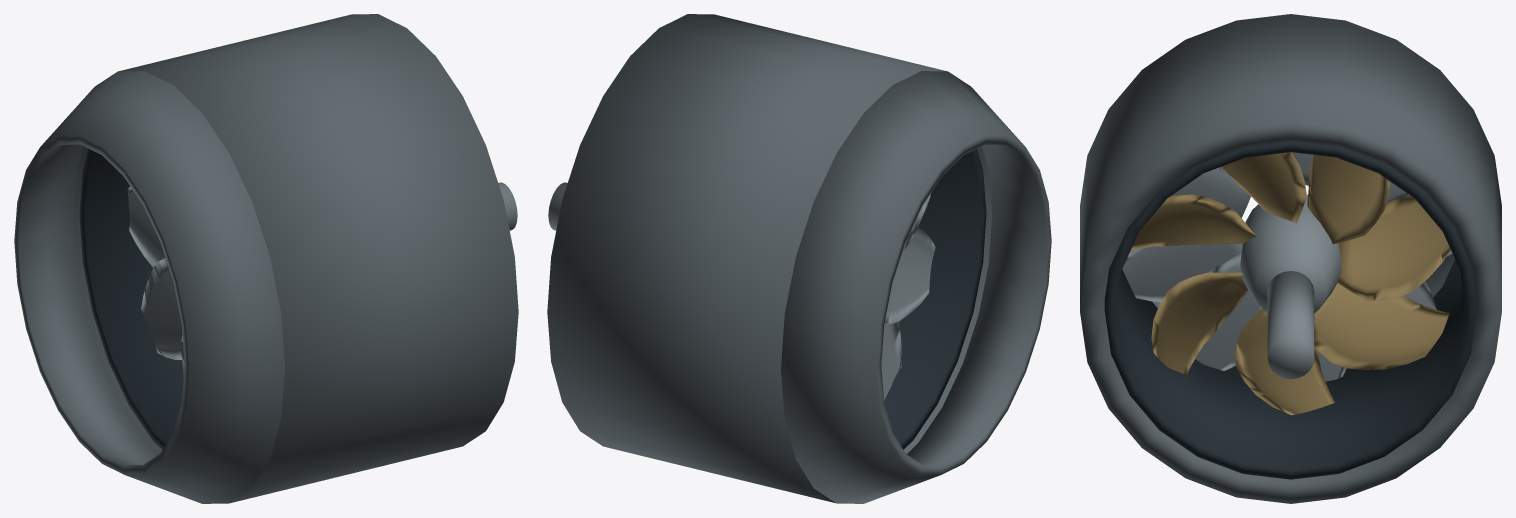
File: CN_PJ_Type093B_LOD1.fbx
3 renders of one model, left to right at view 1: azimuth 30°, elevation 25°; view 2: azimuth 150°, elevation 25°; view 3: azimuth 270°, elevation 25°, orthographic. The views are drawn at different scales.
Visible parts, largest first — view 1: CN_PJ_Type093B_LOD1_Housing.001, CN_PJ_Type093B_LOD1_Nozzle.001, CN_PJ_Type093B_LOD1_Lining.001, CN_PJ_Type093B_LOD1_Stator_08.001, CN_PJ_Type093B_LOD1_Stator_00.001; view 2: CN_PJ_Type093B_LOD1_Housing.001, CN_PJ_Type093B_LOD1_Nozzle.001, CN_PJ_Type093B_LOD1_Lining.001, CN_PJ_Type093B_LOD1_Stator_05.001, CN_PJ_Type093B_LOD1_Stator_06.001; view 3: CN_PJ_Type093B_LOD1_Housing.001, CN_PJ_Type093B_LOD1_Lining.001, CN_PJ_Type093B_LOD1_Rotor_06.001, CN_PJ_Type093B_LOD1_Rotor_00.001, CN_PJ_Type093B_LOD1_Hub.001, CN_PJ_Type093B_LOD1_Rotor_04.001, CN_PJ_Type093B_LOD1_Rotor_01.001, CN_PJ_Type093B_LOD1_Shaft.001, CN_PJ_Type093B_LOD1_Rotor_05.001, CN_PJ_Type093B_LOD1_Rotor_03.001, CN_PJ_Type093B_LOD1_Stator_05.001, CN_PJ_Type093B_LOD1_Rotor_02.001 (+3 smaller).
Boxes of the visible parts, x1,y1,x2,y2 form: CN_PJ_Type093B_LOD1_Housing.001: (74, 14, 518, 503); CN_PJ_Type093B_LOD1_Nozzle.001: (14, 71, 284, 503); CN_PJ_Type093B_LOD1_Lining.001: (79, 149, 183, 449); CN_PJ_Type093B_LOD1_Stator_08.001: (141, 258, 182, 359); CN_PJ_Type093B_LOD1_Stator_00.001: (127, 187, 165, 267); CN_PJ_Type093B_LOD1_Housing.001: (547, 14, 991, 503); CN_PJ_Type093B_LOD1_Nozzle.001: (781, 71, 1051, 503); CN_PJ_Type093B_LOD1_Lining.001: (884, 149, 986, 449); CN_PJ_Type093B_LOD1_Stator_05.001: (884, 227, 935, 323); CN_PJ_Type093B_LOD1_Stator_06.001: (881, 322, 901, 400); CN_PJ_Type093B_LOD1_Housing.001: (1080, 14, 1501, 503); CN_PJ_Type093B_LOD1_Lining.001: (1104, 142, 1477, 479); CN_PJ_Type093B_LOD1_Rotor_06.001: (1314, 283, 1449, 369); CN_PJ_Type093B_LOD1_Rotor_00.001: (1337, 195, 1450, 300); CN_PJ_Type093B_LOD1_Hub.001: (1240, 195, 1341, 313); CN_PJ_Type093B_LOD1_Rotor_04.001: (1151, 272, 1248, 374); CN_PJ_Type093B_LOD1_Rotor_01.001: (1307, 155, 1389, 243); CN_PJ_Type093B_LOD1_Shaft.001: (1267, 271, 1314, 379); CN_PJ_Type093B_LOD1_Rotor_05.001: (1234, 308, 1334, 415); CN_PJ_Type093B_LOD1_Rotor_03.001: (1131, 194, 1255, 250); CN_PJ_Type093B_LOD1_Stator_05.001: (1122, 243, 1242, 302); CN_PJ_Type093B_LOD1_Rotor_02.001: (1221, 152, 1306, 223).
Size of the model in its own units: 564 by 540 by 540.
